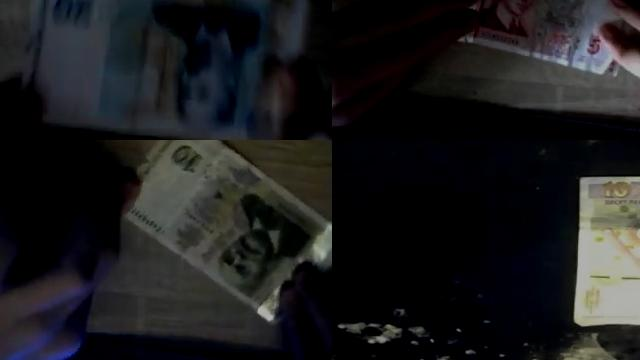10leva: (125, 140, 332, 322), (573, 174, 640, 327)
20leva: (37, 0, 263, 140)
5leva: (462, 0, 621, 75)
